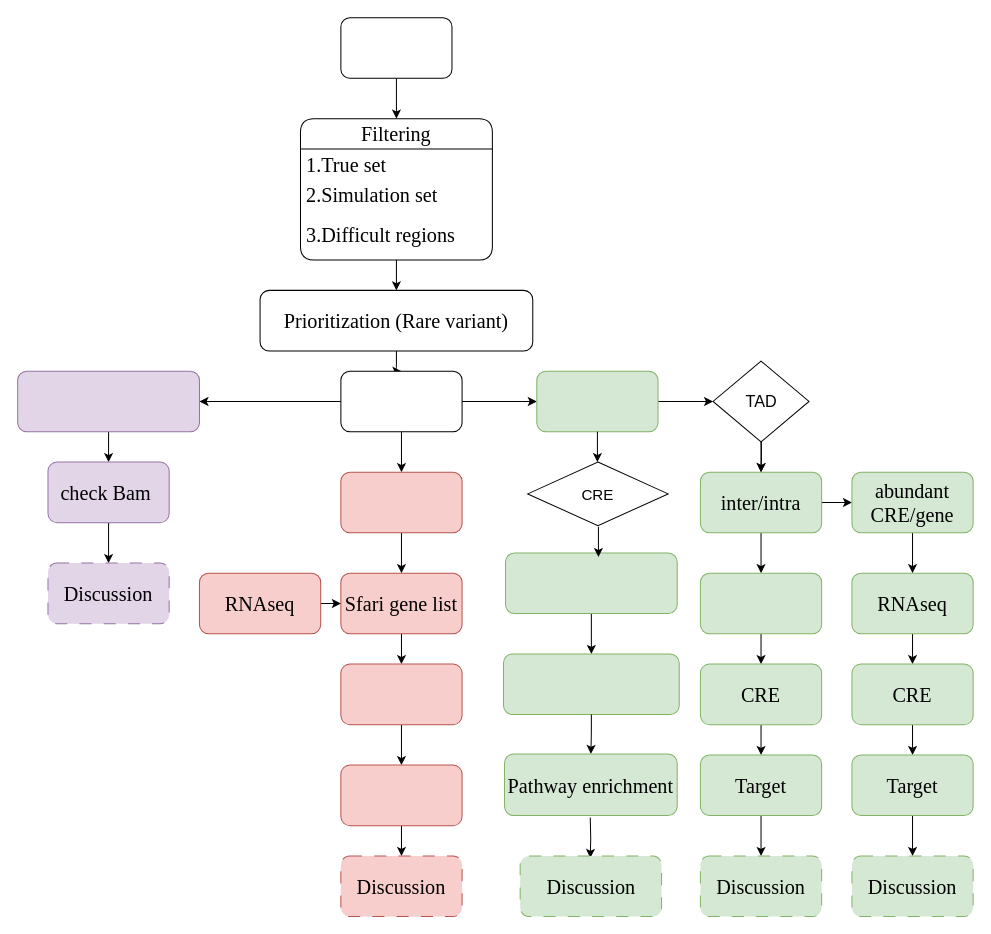
Some shapes in this 991 by 934 pixel diagram are drawn without their labels. The shapes that lost their labels are listed below. From the top down, each one's centre as x and y in pixels, then its label:
the point at 396,47: CNV
the point at 108,401: known pathogenic SV
the point at 401,401: AF<0.1%
the point at 597,401: Noncoding regions
the point at 401,502: Coding regions
the point at 590,583: 1. Tissue specific functional genomics
the point at 760,603: TAD border
the point at 401,694: Dosage sensitive
the point at 590,684: 2.Functional genomics
the point at 401,795: Public x-Seq data
